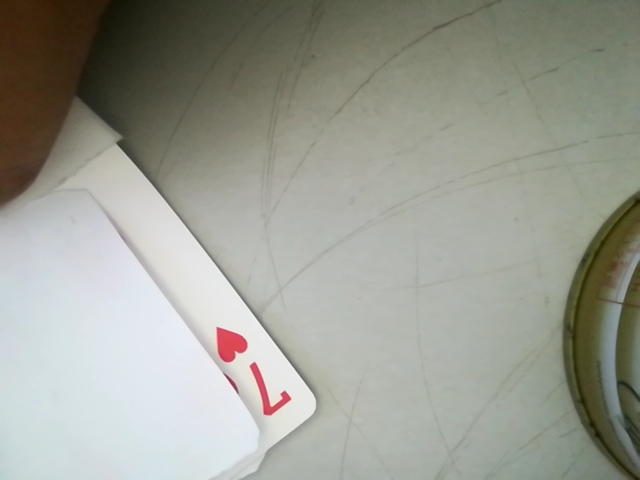hx 7: (201, 314, 291, 432)
